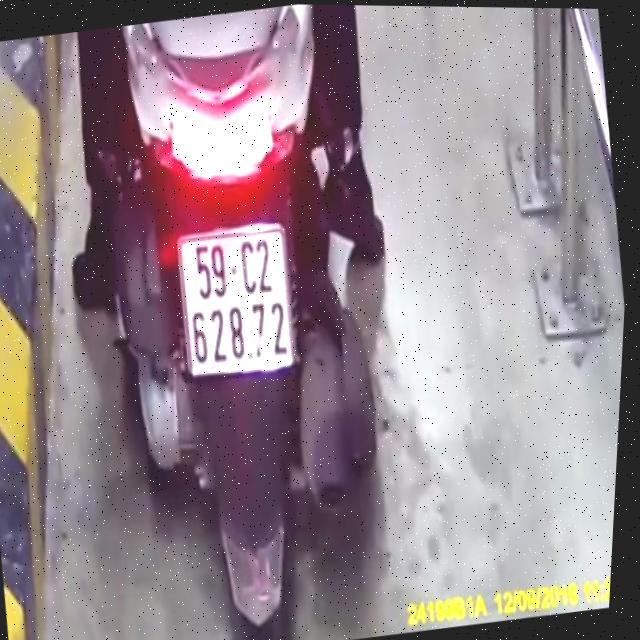motorcycle: (57, 1, 442, 640)
plate: (164, 220, 307, 385)
